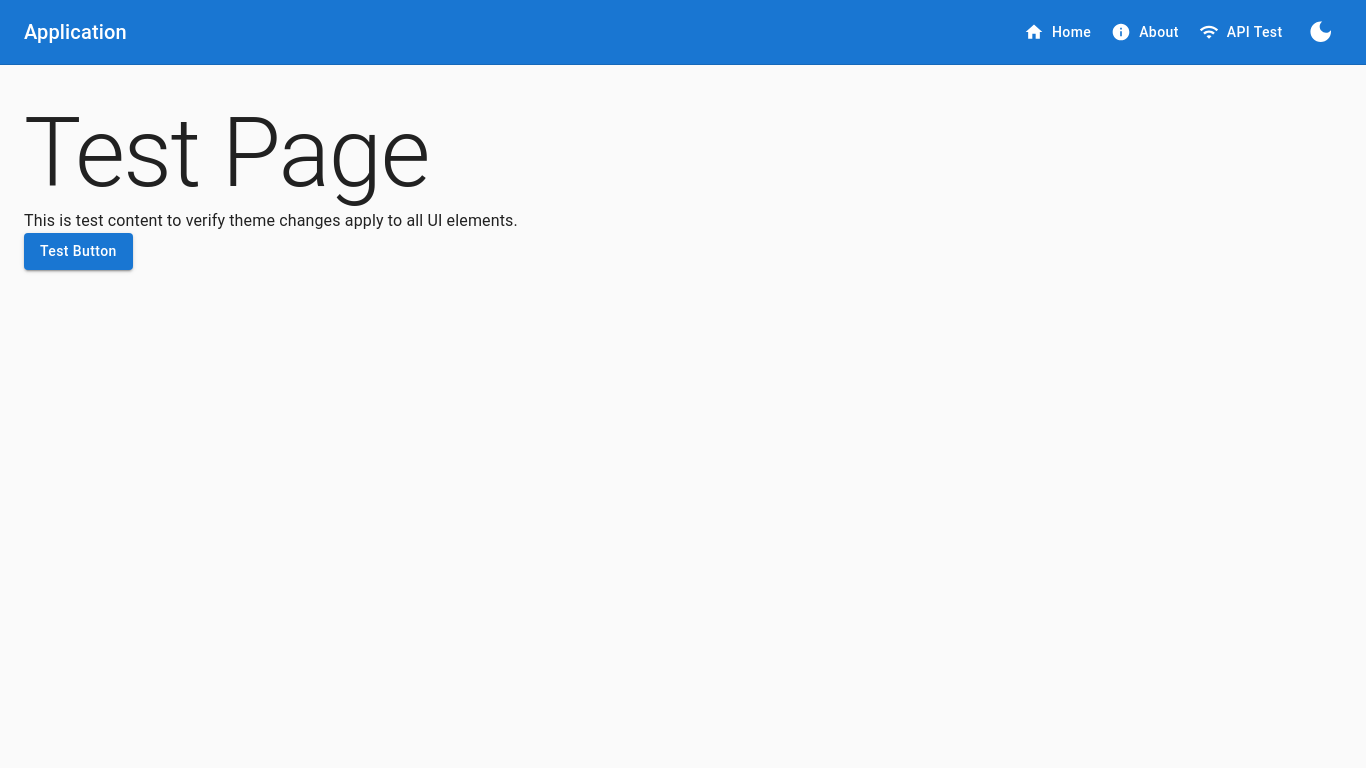
Test: Story 6: Toggle Between Themes - Integration Tests › Acceptance Criterion 2: Toggle control updates to reflect new active theme › should maintain correct toggle state through multiple changes
# Switch to dark
What coordinates should you click on to do the following:
click the button named "switch to dark mode"
I would click on:
 (1320, 32)
Its box is [1299,10,1342,54].
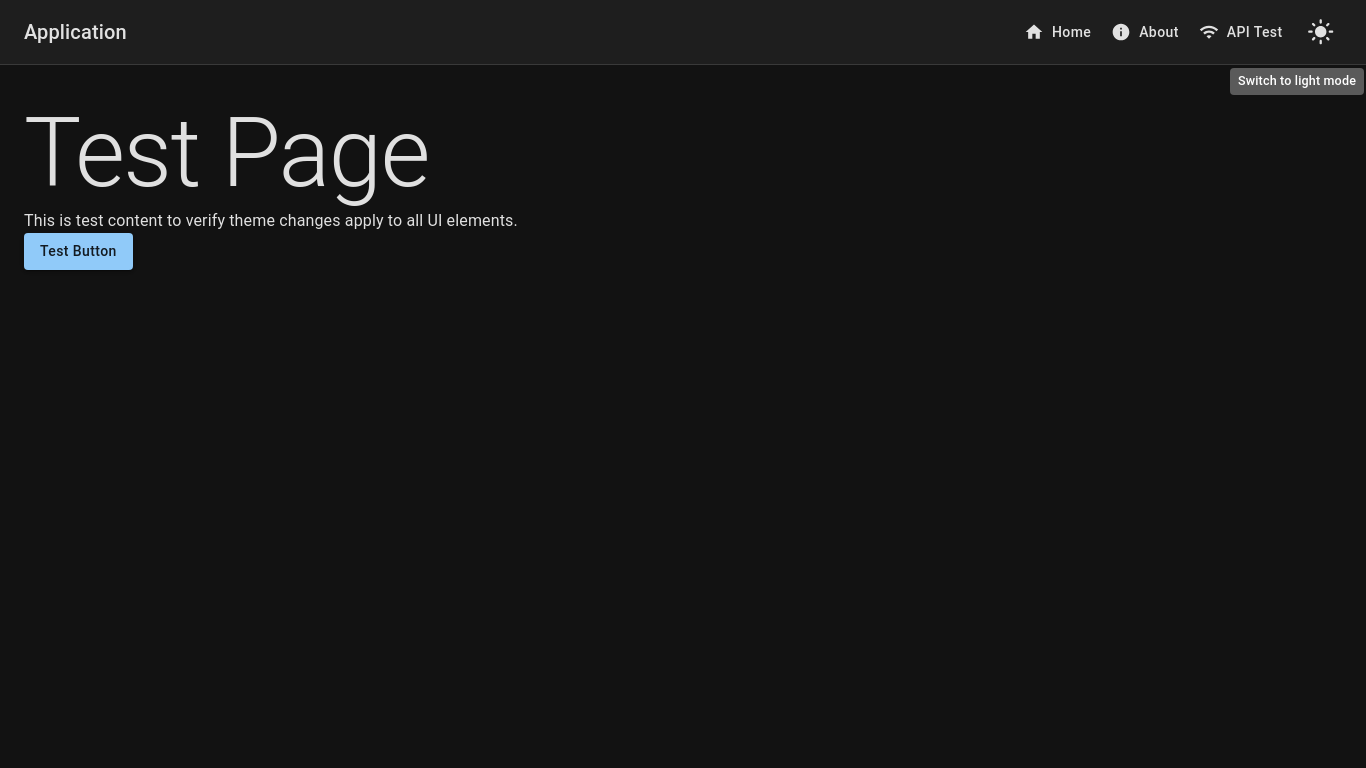
Expected: the button named "switch to light mode" is shown
# Switch back to light
What coordinates should you click on to do the following:
click the button named "switch to light mode"
I would click on:
 (1320, 32)
Its box is [1299,10,1342,54].
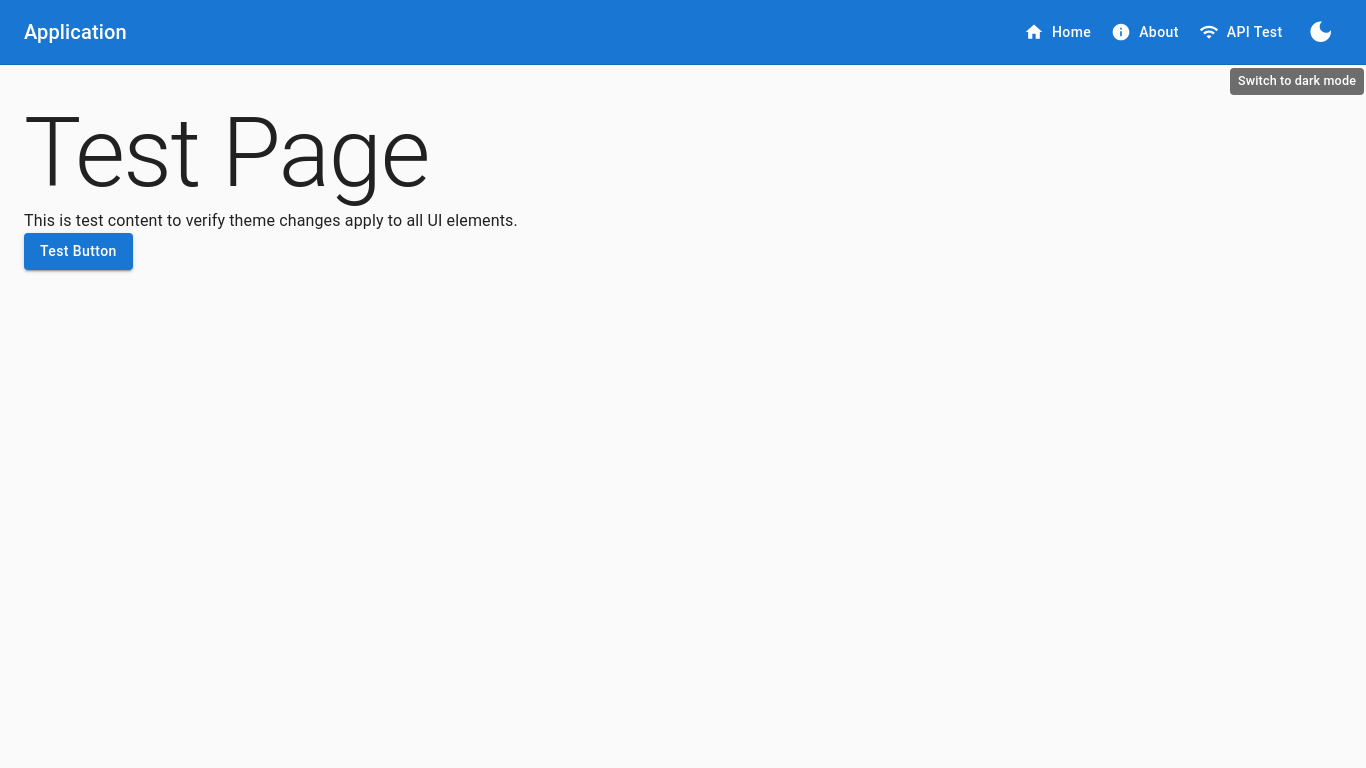
Expected: the button named "switch to dark mode" is shown, [1299,10,1342,54]
